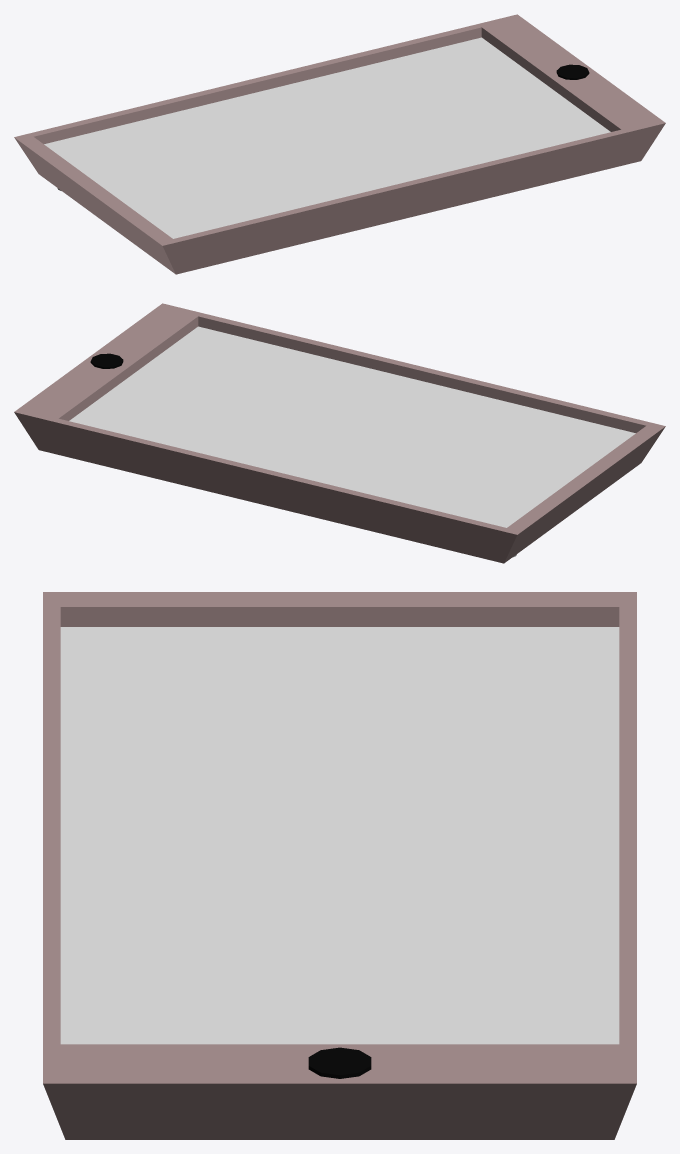
File: SM_Phone.fbx
3 renders of one model, top to bottom at view 1: azimuth 30°, elevation 25°; view 2: azimuth 150°, elevation 25°; view 3: azimuth 270°, elevation 25°, orthographic. The views are drawn at different scales.
Parts seen in each view (by area): view 1: pCube1; view 2: pCube1; view 3: pCube1.
Boxes of the visible parts, x1=… form: pCube1: x1=14, y1=14, x2=665, y2=274; pCube1: x1=14, y1=303, x2=665, y2=563; pCube1: x1=43, y1=592, x2=636, y2=1139.
Size of the model in its own units: 7.92 by 0.6674 by 4.05.
